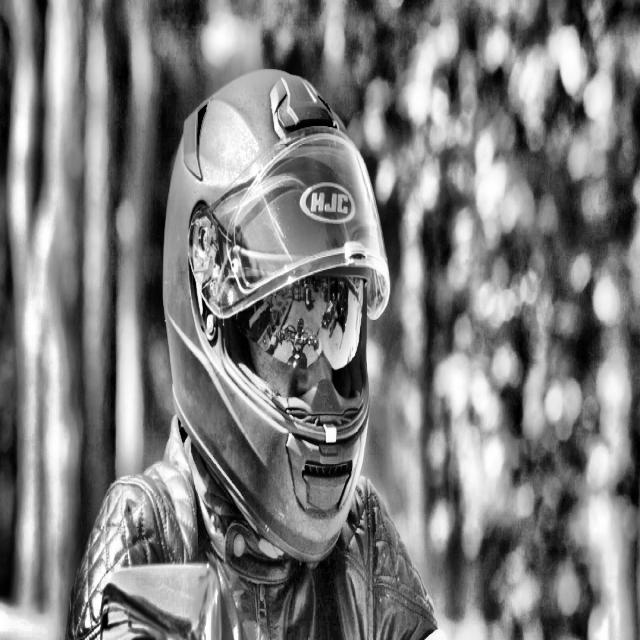Helmet: (155, 69, 395, 563)
